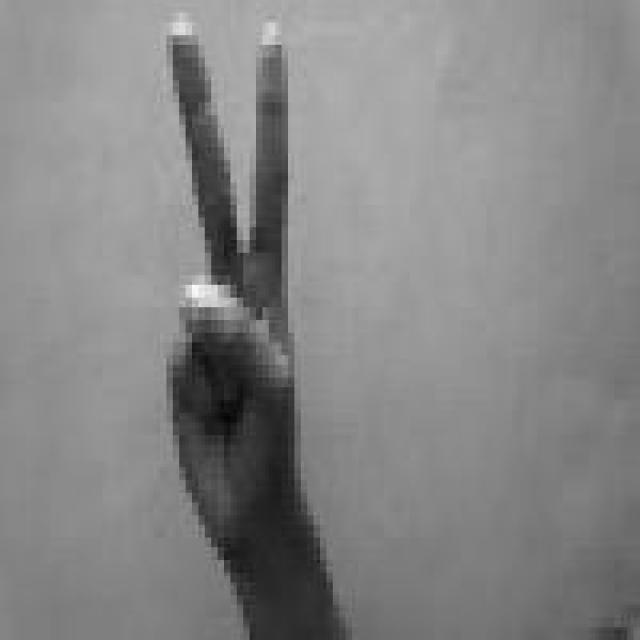V: (146, 9, 312, 556)
